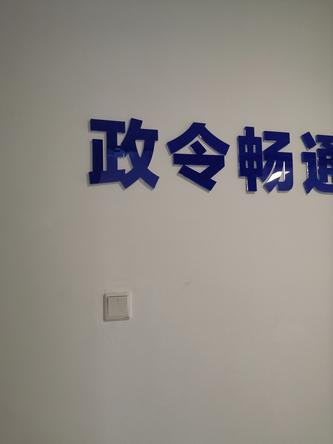switch: (107, 291, 131, 317)
